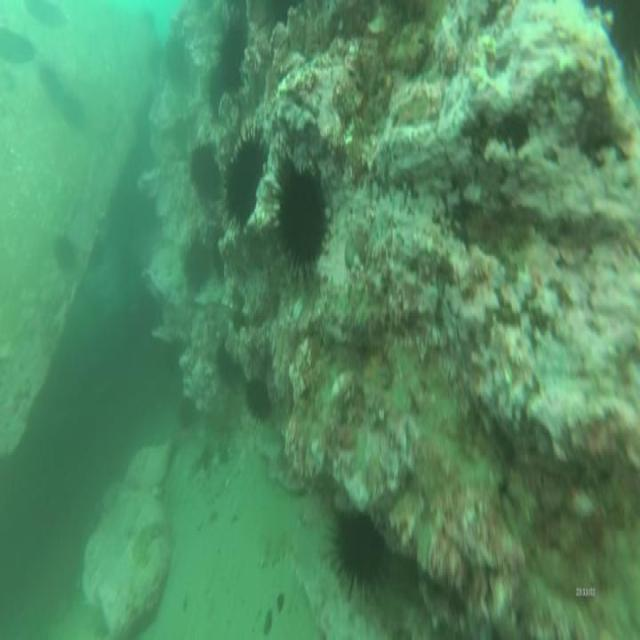echinus: (268, 142, 330, 294), (219, 120, 271, 231), (325, 507, 387, 596), (210, 13, 252, 79), (178, 231, 218, 300), (187, 134, 226, 199), (239, 370, 275, 430)
